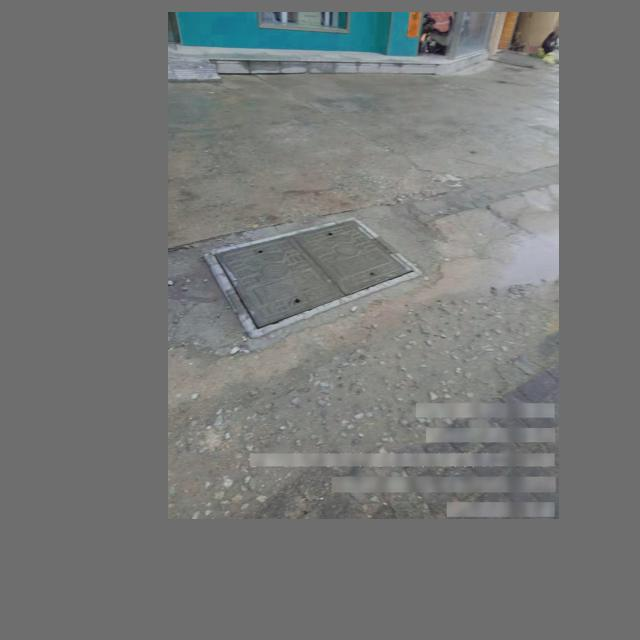good: (206, 215, 423, 338)
